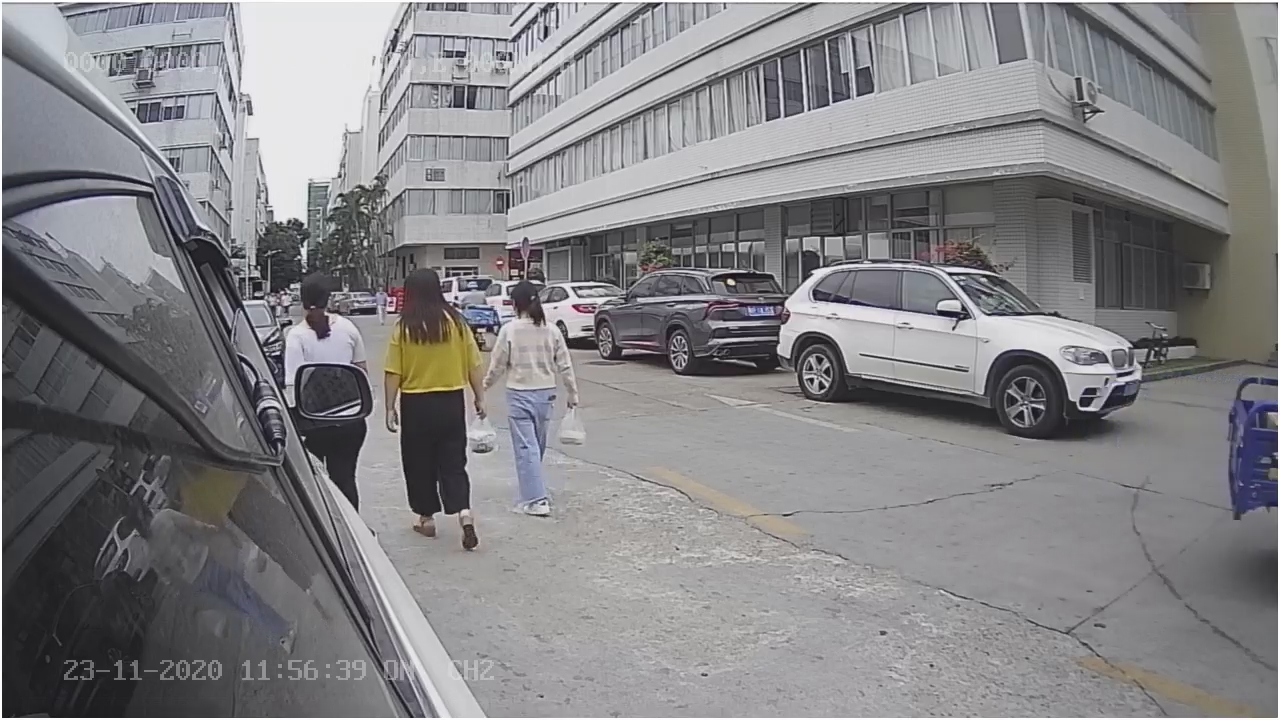person: (386, 262, 507, 568), (486, 281, 599, 467), (286, 267, 385, 363)
